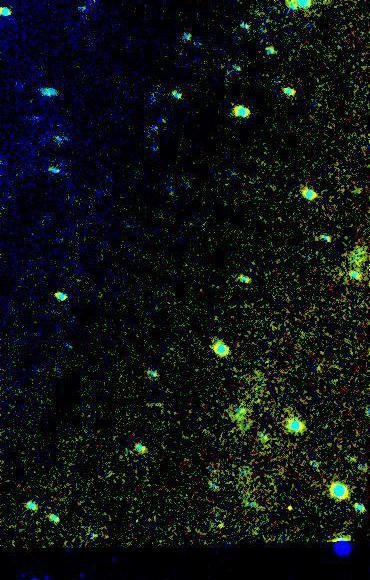star: (278, 492, 308, 522)
